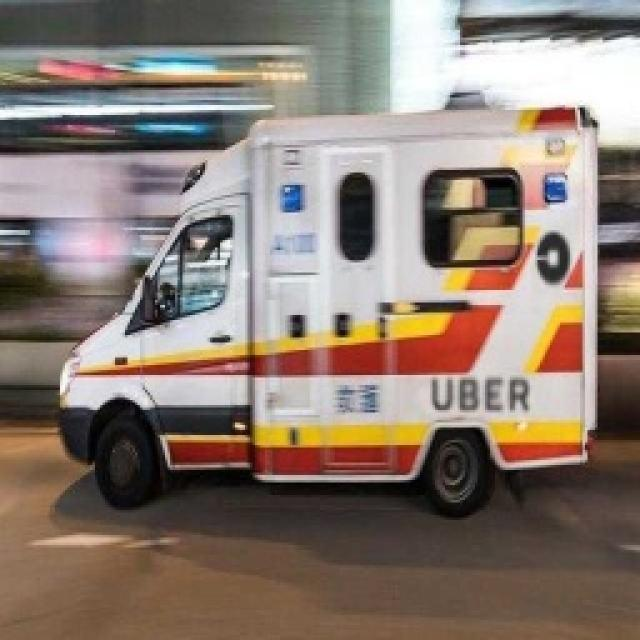emergency-vehicle: (20, 87, 640, 640)
